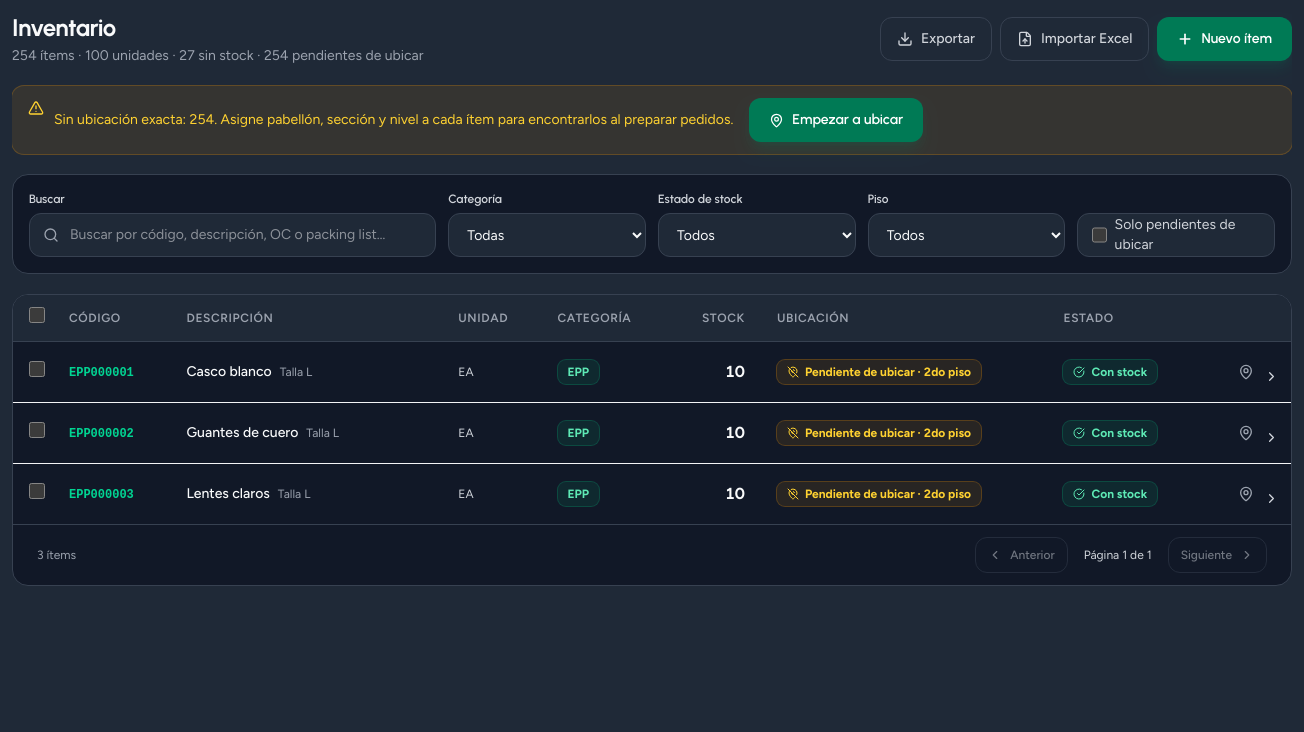
Scenario: InventarioPage — selección masiva › marcar todos y luego desmarcar uno deja la casilla general sin marcar
The image size is (1304, 732).
Expected: the link "EPP000001" is shown, [69,366,134,380]
Click the checkbox named "seleccionar todos los ítems de esta página" at (37, 315), box [29,307,45,323]
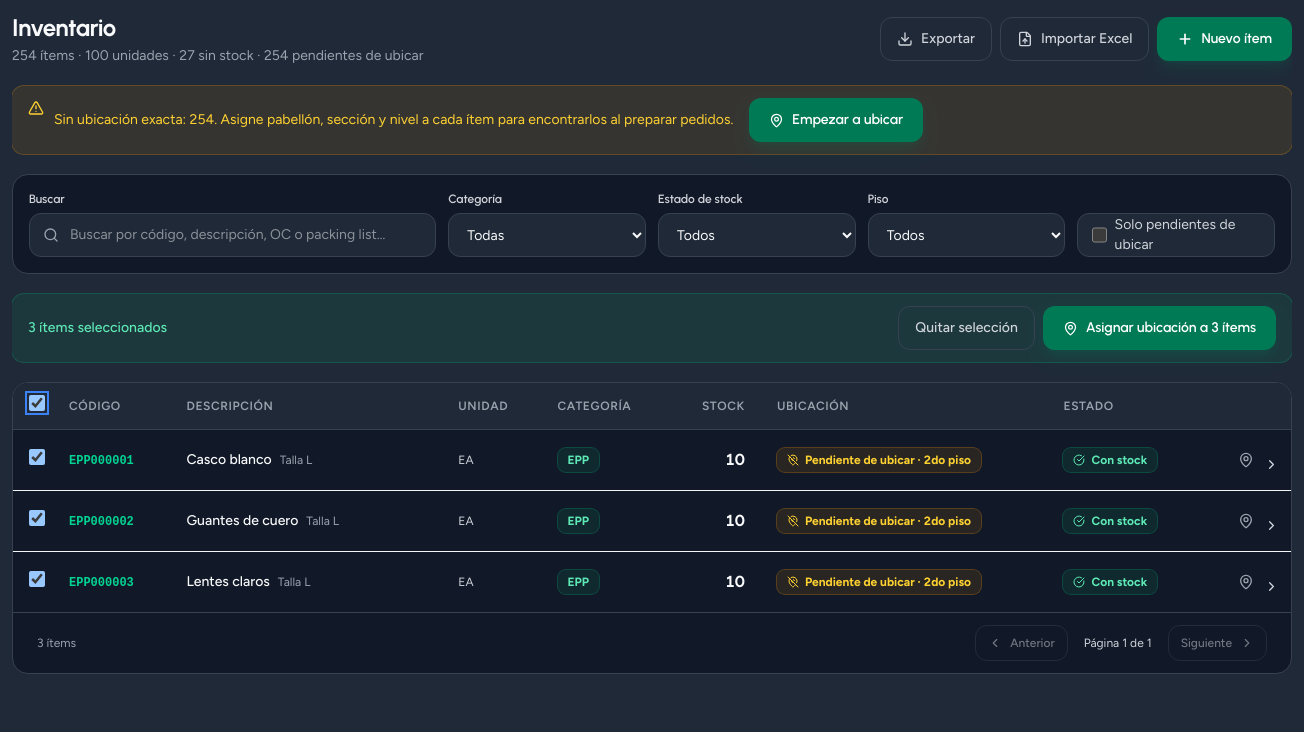
Click the checkbox named "Seleccionar EPP000003" at (37, 579), box [29,571,45,587]
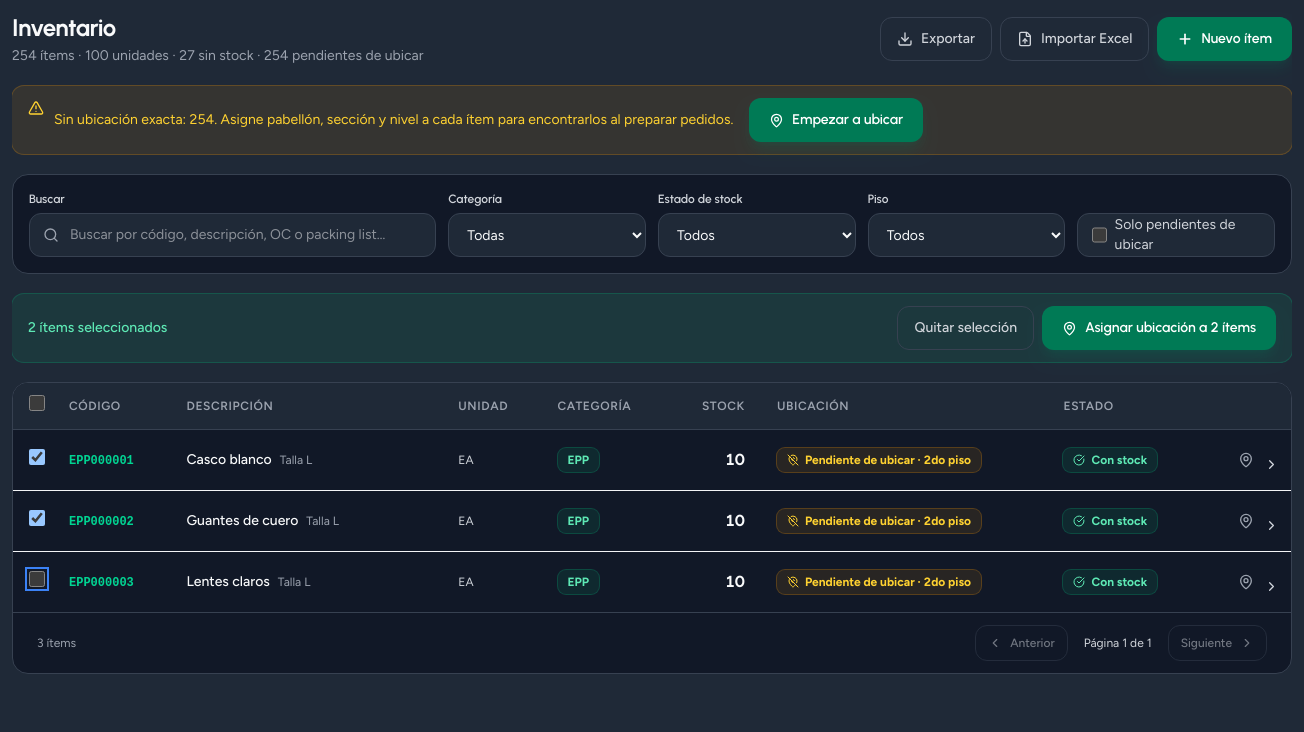
Now the checkbox named "seleccionar todos los ítems de esta página" is not checked, box [29,395,45,411]
Now the text "2 ítems seleccionados" is shown, box [28,318,167,338]
